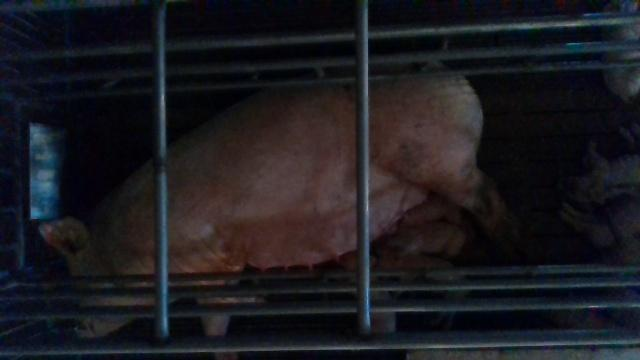piglet: (379, 250, 470, 330), (559, 124, 640, 207), (342, 249, 396, 332), (600, 0, 640, 105), (560, 196, 640, 245), (384, 219, 468, 257)
sow-sleep-lactate: (38, 63, 505, 337)
